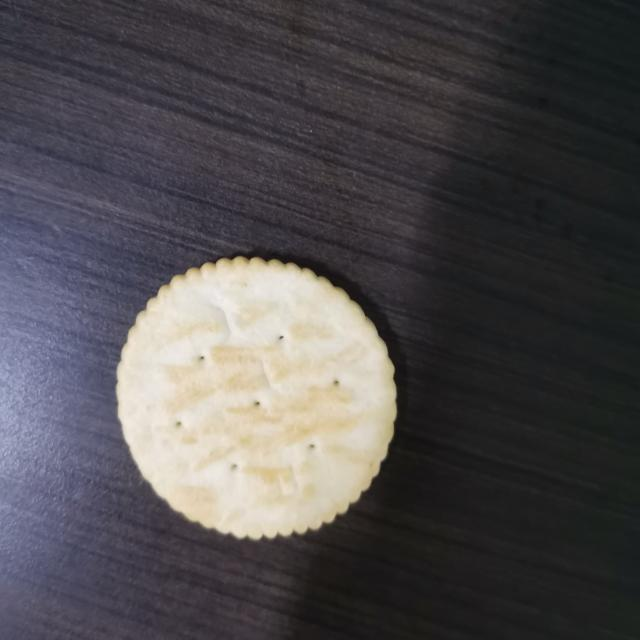Intact: (104, 242, 408, 553)
